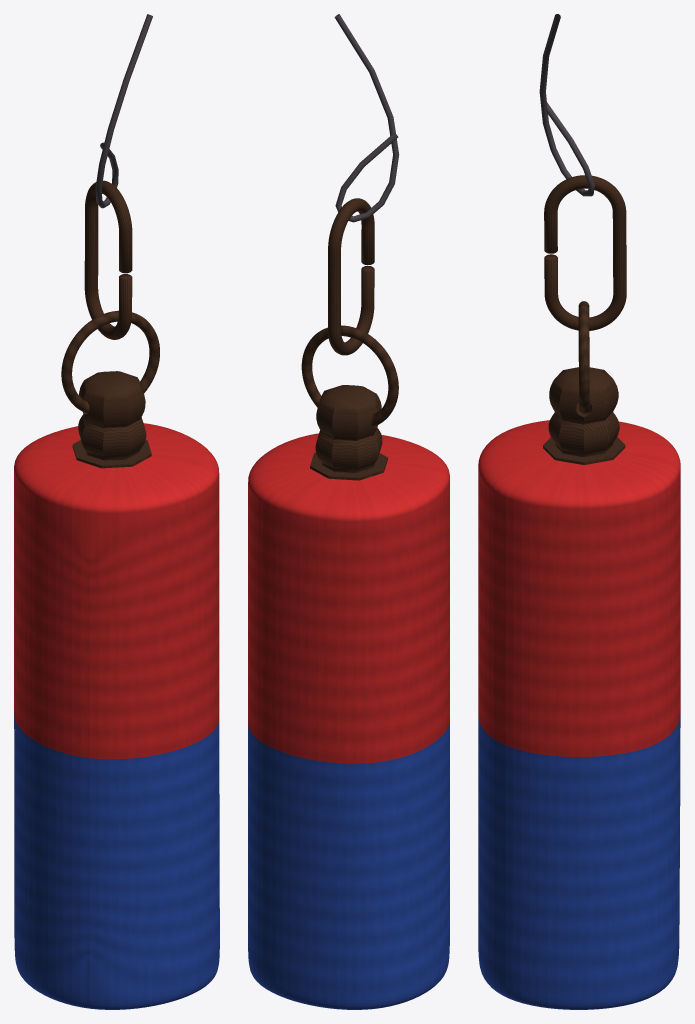
The model's file is z1_linterna.obj.
3 views of the same model, side by side, from view 1: azimuth 30°, elevation 25°; view 2: azimuth 150°, elevation 25°; view 3: azimuth 270°, elevation 25° (orthographic). The views are drawn at different scales.
Visible parts, largest first — view 1: BézierCurve; view 2: BézierCurve; view 3: BézierCurve.
Part boxes in pixels (bbox=[...]): BézierCurve: bbox=[14, 14, 219, 1009]; BézierCurve: bbox=[248, 14, 449, 1009]; BézierCurve: bbox=[478, 14, 680, 1009].
Bounding box in the file's own units: 0.1115 × 0.5858 × 0.1111.
Materials: 5 (5 with a texture image).
